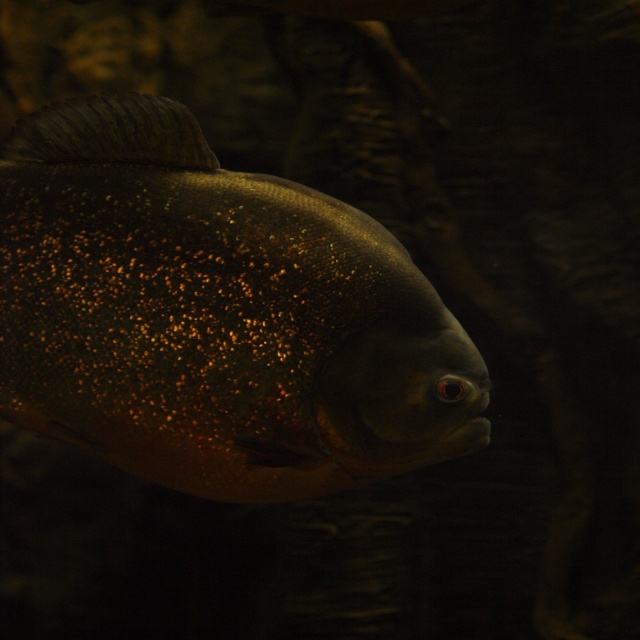Fish: (0, 88, 516, 529)
